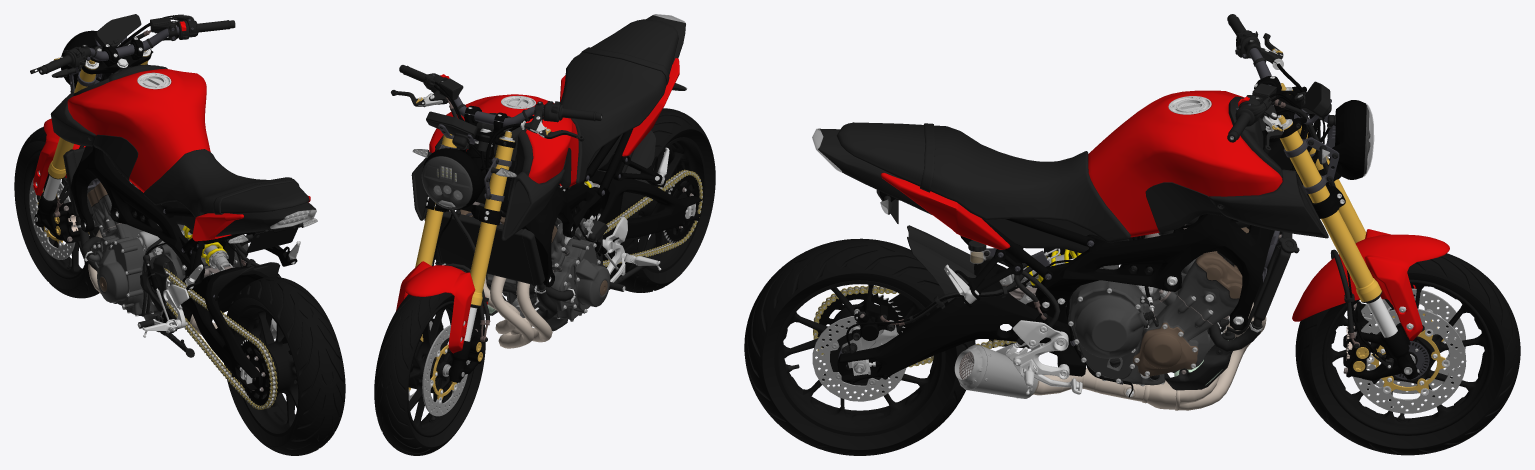
The model's file is three_cylinder_naked_street_bike.glb.
3 renders of one model, left to right at view 1: azimuth 30°, elevation 25°; view 2: azimuth 150°, elevation 25°; view 3: azimuth 270°, elevation 25°, orthographic. The views are drawn at different scales.
Parts seen in each view (by area): view 1: rear tire surface, fuel tank, seat, frame, rear wheel geometry, rough_swingarn, front tire surface, crank case, stator cover, front rim, outer link.032, subframe cover (+32 smaller); view 2: seat, front tire surface, rear tire surface, raditator, frame, front rim, rough_swingarn, fuel tank, fork_tube, rear wheel geometry, front fender, scoops (+34 smaller); view 3: seat, rear tire surface, fuel tank, front tire surface, frame, rough_swingarn, rear wheel geometry, front rim, front fender, clutch cover, front rotor outer, fork_tube (+30 smaller).
Boxes of the visible parts, x1=… form: rear tire surface: x1=224, y1=277, x2=345, y2=455; fuel tank: x1=67, y1=68, x2=210, y2=192; seat: x1=143, y1=149, x2=309, y2=217; frame: x1=70, y1=73, x2=234, y2=328; rear wheel geometry: x1=233, y1=304, x2=299, y2=436; rough_swingarn: x1=182, y1=266, x2=267, y2=390; front tire surface: x1=14, y1=127, x2=99, y2=298; crank case: x1=101, y1=223, x2=210, y2=314; stator cover: x1=96, y1=236, x2=136, y2=308; front rim: x1=23, y1=148, x2=90, y2=280; outer link.032: x1=165, y1=268, x2=277, y2=409; subframe cover: x1=216, y1=202, x2=316, y2=236; seat: x1=560, y1=19, x2=678, y2=184; front tire surface: x1=374, y1=292, x2=485, y2=455; rear tire surface: x1=602, y1=108, x2=715, y2=292; raditator: x1=424, y1=211, x2=544, y2=289; frame: x1=466, y1=143, x2=601, y2=287; front rim: x1=407, y1=301, x2=475, y2=437; rough_swingarn: x1=588, y1=170, x2=702, y2=242; fuel tank: x1=429, y1=94, x2=578, y2=186; fork_tube: x1=415, y1=134, x2=514, y2=305; rear wheel geometry: x1=636, y1=137, x2=705, y2=273; front fender: x1=396, y1=261, x2=487, y2=353; scoops: x1=411, y1=157, x2=564, y2=240; seat: x1=836, y1=122, x2=1130, y2=242; rear tire surface: x1=744, y1=238, x2=975, y2=455; fuel tank: x1=1088, y1=90, x2=1282, y2=237; front tire surface: x1=1295, y1=253, x2=1520, y2=455; frame: x1=1035, y1=130, x2=1318, y2=376; rough_swingarn: x1=837, y1=259, x2=1070, y2=384; rear wheel geometry: x1=774, y1=280, x2=945, y2=436; front rim: x1=1322, y1=279, x2=1493, y2=435; front fender: x1=1292, y1=229, x2=1449, y2=340; clutch cover: x1=1068, y1=286, x2=1149, y2=380; front rotor outer: x1=1353, y1=288, x2=1466, y2=413; fork_tube: x1=1280, y1=89, x2=1381, y2=301.
Bounding box in the file's own units: 123 × 184 × 333.
